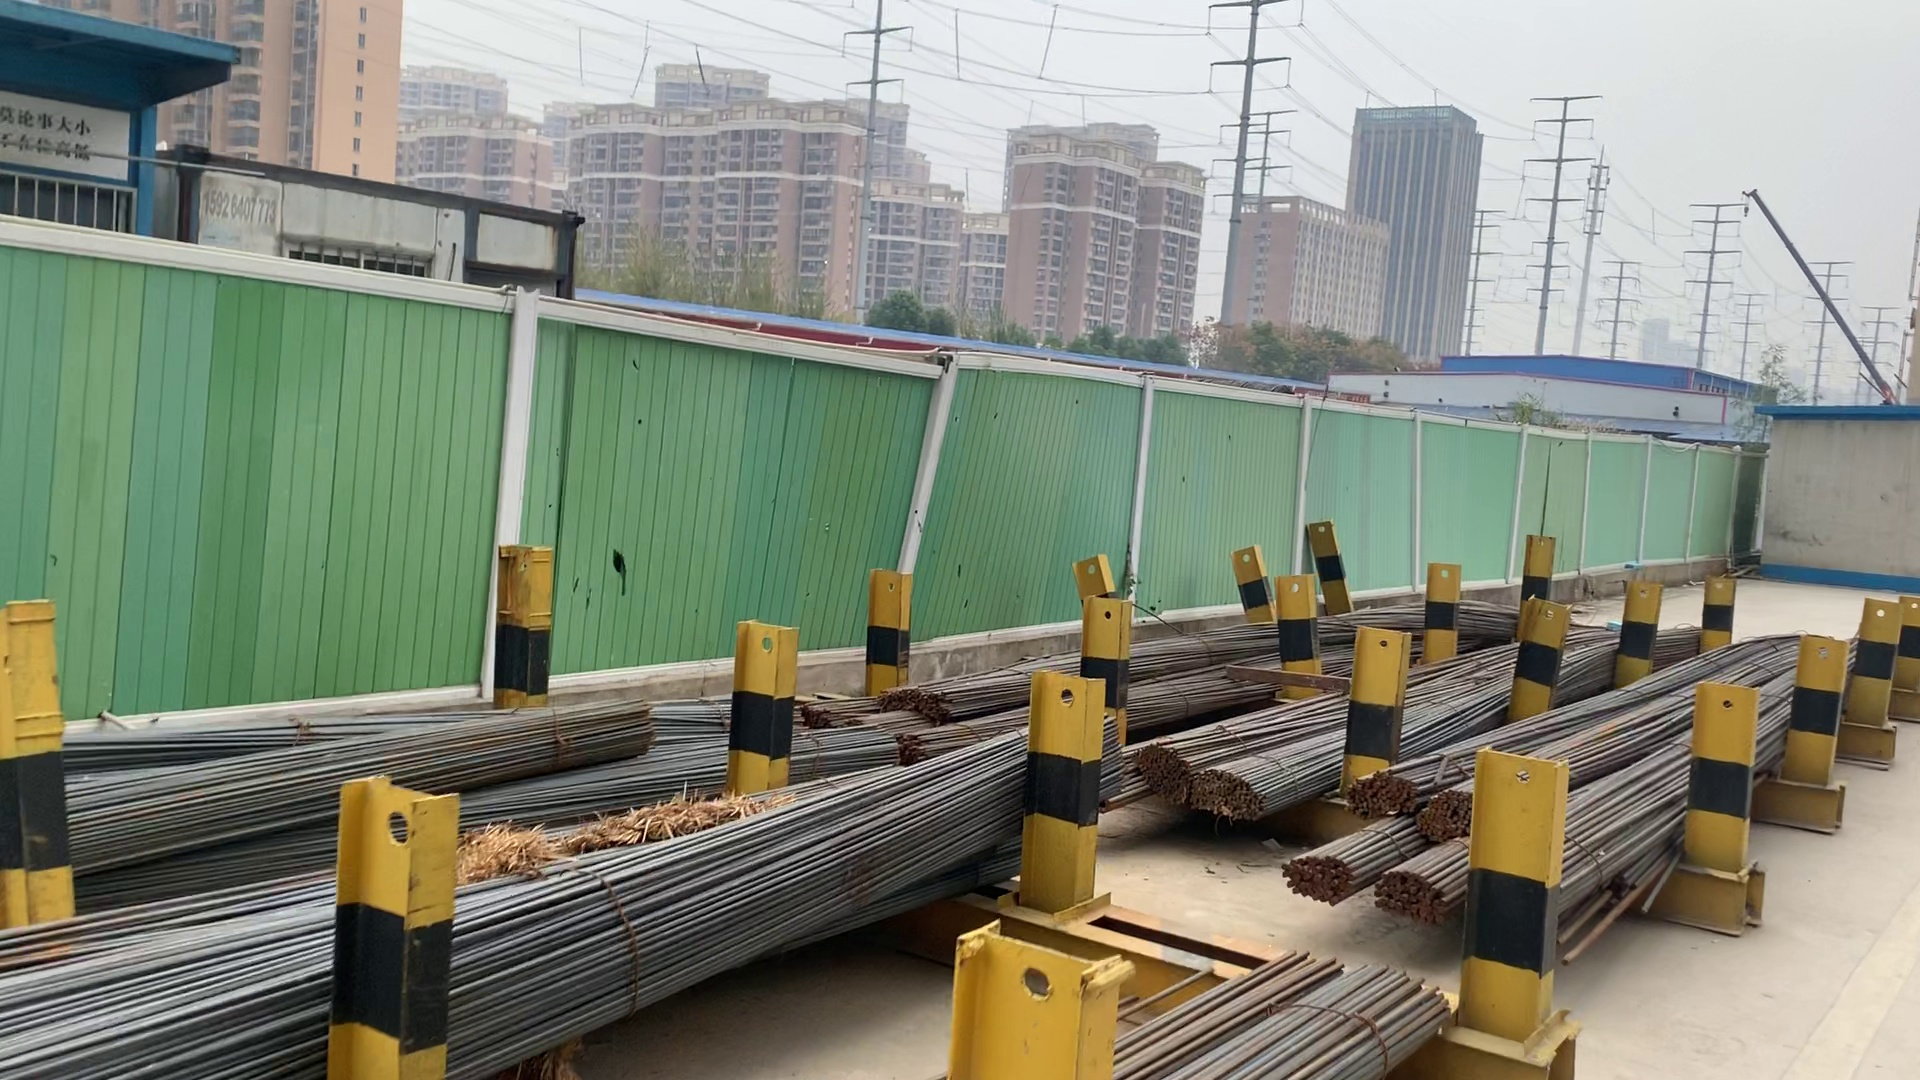rebar: (1367, 868, 1443, 927), (1192, 770, 1262, 825), (1338, 766, 1411, 818), (1284, 853, 1352, 907), (1133, 742, 1185, 807), (884, 680, 957, 720), (1411, 795, 1476, 833), (891, 727, 934, 766)
